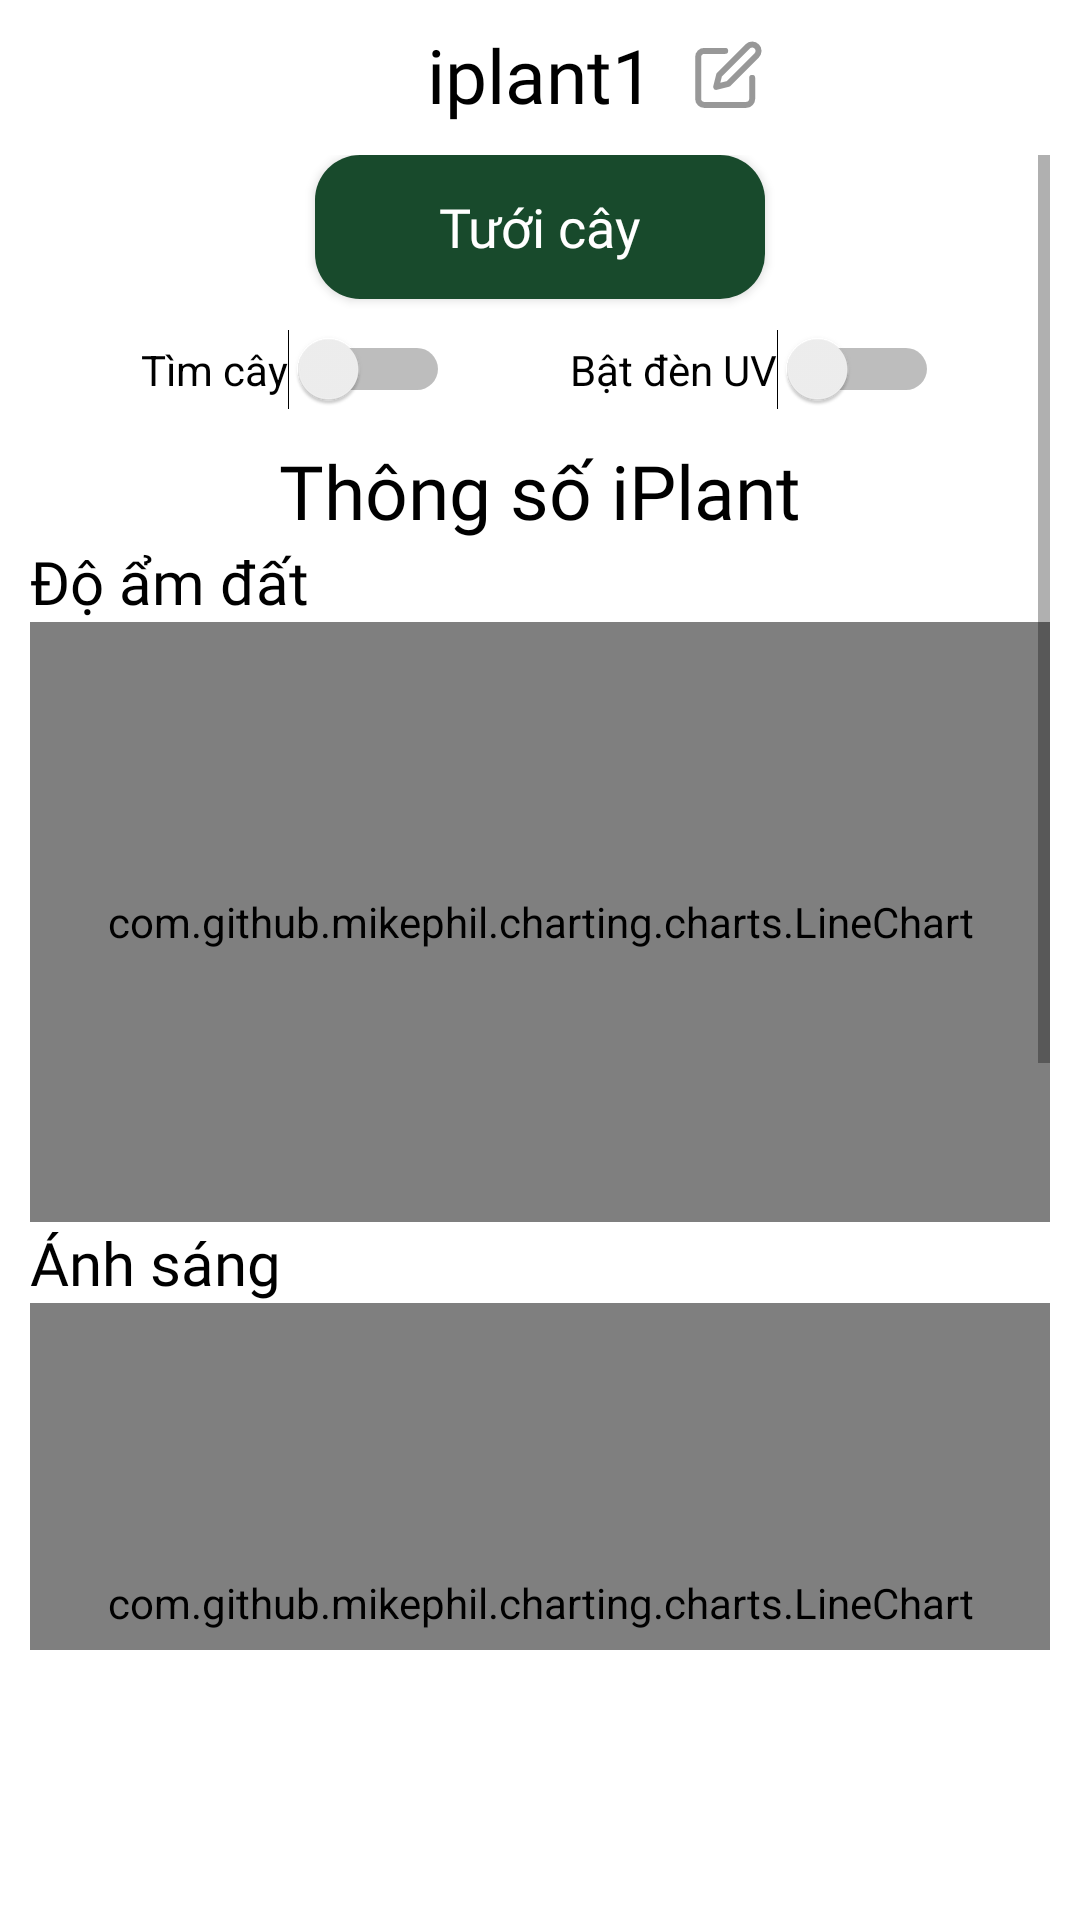

Point at icon controls on the screen. Image size 1080x1920, points as (x=x, y=y).
edit: (x=728, y=74)
